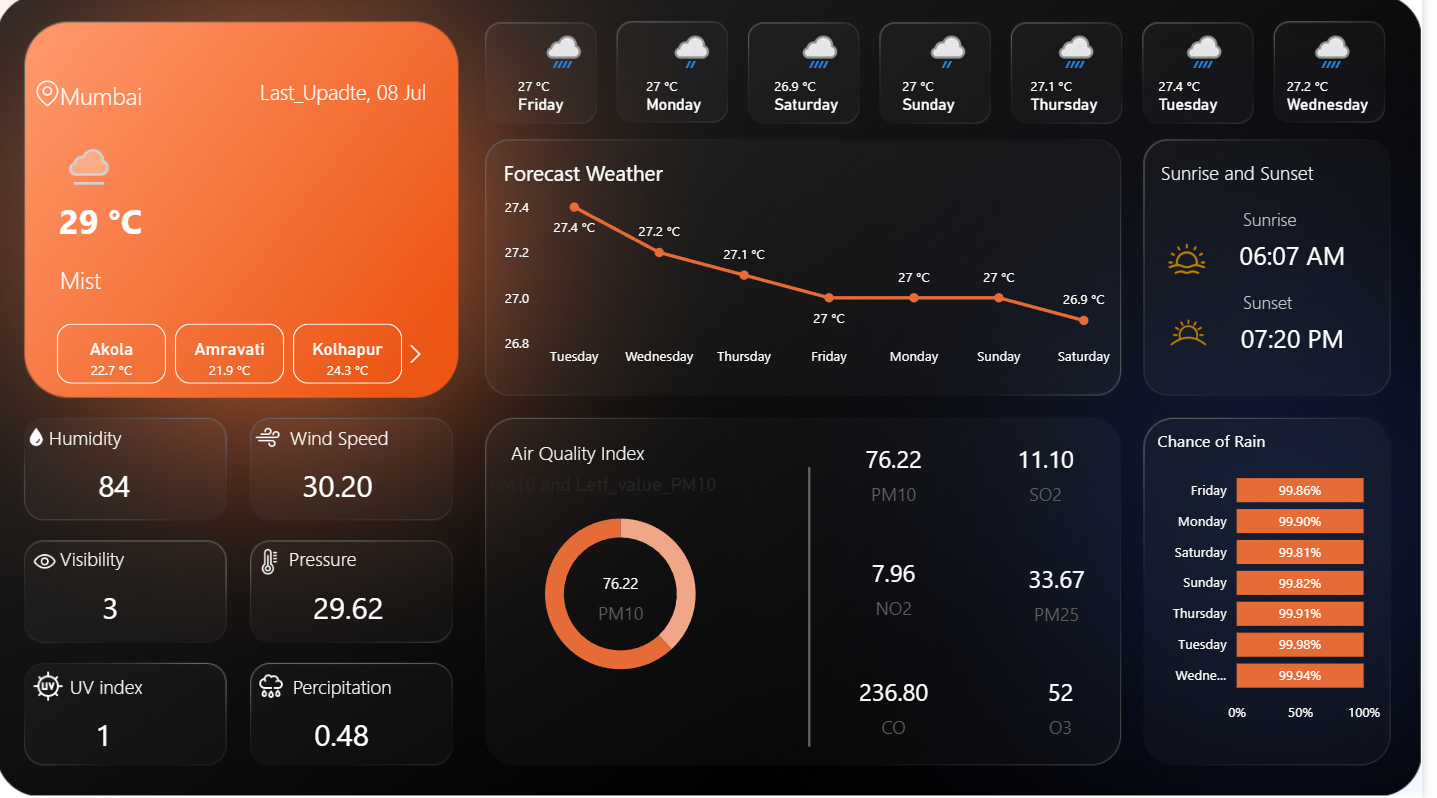

What the dashboard file says about the page in this screenshot:
{"tool":"powerbi","page":{"name":"Page 1","canvas":[1280,720],"ordinal":0},"visuals":[{"type":"advancedSlicerVisual","fields":{"Values":["Location.location.name"]},"box":[30,289.1,362.7,64.5],"z":0},{"type":"image","box":[3.3,382.8,65.6,27.2],"z":1000},{"type":"shape","box":[56.4,158.2,155.5,86.4],"z":2000},{"type":"shape","box":[56.4,231.8,287.3,43.6],"z":3000},{"type":"shape","box":[56.4,66.4,148.2,43.6],"z":4000},{"type":"shape","box":[236.4,66.4,164.5,38.2],"z":5000},{"type":"image","box":[30,70.9,32.7,33.6],"z":6000},{"type":"cardVisual","fields":{"Data":["Min(Current.current.condition.icon)"]},"box":[36.1,105.1,100.8,93.4],"z":7000},{"type":"shape","box":[46.7,382.1,130.5,27.6],"z":8000},{"type":"shape","box":[1118.3,187.1,129.9,27.3],"z":9000},{"type":"image","box":[225,380,37.1,32.9],"z":10000},{"type":"image","box":[24.4,491.4,38.2,32.9],"z":11000},{"type":"shape","box":[56.3,491.4,130.5,27.6],"z":12000},{"type":"image","box":[229.3,488.2,32.9,39.3],"z":13000},{"type":"shape","box":[262.2,491.4,130.5,27.6],"z":14000},{"type":"image","box":[27.6,600.7,38.2,38.2],"z":15000},{"type":"shape","box":[65.8,606,130.5,27.6],"z":16000},{"type":"image","box":[229.3,600.7,36.1,37.1],"z":17000},{"type":"shape","box":[265.3,606,130.5,27.6],"z":18000},{"type":"cardVisual","fields":{"Data":["Sum(Current.current.humidity)"]},"box":[69,395.9,74.3,75.4],"z":19000},{"type":"cardVisual","fields":{"Data":["Sum(Current.current.wind_kph)"]},"box":[211,395.9,191.2,75.4],"z":20000},{"type":"cardVisual","fields":{"Data":["Sum(Current.current.vis_km)"]},"box":[65.8,505.2,74.3,75.4],"z":21000},{"type":"cardVisual","fields":{"Data":["Sum(Current.current.pressure_in)"]},"box":[265.3,505.2,101.9,75.4],"z":22000},{"type":"cardVisual","fields":{"Data":["Sum(Current.current.uv)"]},"box":[59.4,619.8,74.3,75.4],"z":23000},{"type":"cardVisual","fields":{"Data":["Sum(Current.current.precip_mm)"]},"box":[265.3,619.8,89.2,75.4],"z":24000},{"type":"advancedSlicerVisual","fields":{"Values":["Forcast_Day.Day_N"]},"box":[450.7,18,807.1,105],"z":25000},{"type":"lineChart","title":"Forecast Weather","fields":{"Category":["Forcast_Day.Day_N"],"Y":["Sum(Forcast_Day.forecast.forecastday.day.avgtemp_c)"]},"box":[450.6,146.3,561.4,195.3],"z":26000},{"type":"shape","box":[1044.7,144.4,147.2,27.3],"z":27000},{"type":"shape","box":[1088.3,200.8,151.7,61.8],"z":28000},{"type":"shape","box":[1118.3,261.6,129.9,27.3],"z":29000},{"type":"shape","box":[1088.3,275.3,151.7,61.8],"z":30000},{"type":"image","box":[1001.1,275.3,138.1,52.7],"z":31000},{"type":"image","box":[1004.7,214.4,129.9,42.7],"z":32000},{"type":"hundredPercentStackedBarChart","title":"Chance of Rain","fields":{"Y":["Sum(Forcast_Hours.forecast.forecastday.hour.chance_of_rain)","_Measure.Last_Updated_Date_Curr"],"Category":["Forecast_Day.Day_N"]},"box":[1037.5,388.7,210.1,272.9],"z":33000},{"type":"shape","box":[461.3,395.6,147.2,27.5],"z":34000},{"type":"shape","box":[263.1,382.8,147.2,27.5],"z":36000},{"type":"cardVisual","fields":{"Data":["Sum(Current.current.air_quality.pm10)"]},"box":[756.4,383.3,98.1,81.6],"z":36001},{"type":"cardVisual","fields":{"Data":["Sum(Current.current.air_quality.no2)"]},"box":[756.4,486,98.1,81.6],"z":36003},{"type":"cardVisual","fields":{"Data":["Sum(Current.current.air_quality.pm2_5)"]},"box":[903.2,491.5,98.1,81.6],"z":36004},{"type":"cardVisual","fields":{"Data":["Sum(Current.current.air_quality.co)"]},"box":[756.4,592.3,98.1,81.6],"z":36005},{"type":"cardVisual","fields":{"Data":["Sum(Current.current.air_quality.o3)"]},"box":[906.8,592.3,98.1,81.6],"z":36006},{"type":"cardVisual","fields":{"Data":["Sum(Current.current.air_quality.so2)"]},"box":[893.1,383.3,98.1,81.6],"z":36007},{"type":"shape","box":[654.7,422.7,151.3,251.2],"z":36008},{"type":"cardVisual","fields":{"Data":["Sum(Current.current.air_quality.pm10)"]},"box":[519.9,500.6,82.5,64.2],"z":36009},{"type":"donutChart","fields":{"Y":["Sum(Current.current.air_quality.pm10)","_Measure.Letf_value_PM10"]},"box":[438.3,428.2,244.8,198.1],"z":36010}]}

Visuals, with their boxes in screenshot pixels (x1, y1, x2, y2), scaled from the page's 1280x720 canvas onto the 1437x798 screenshot:
advancedSlicerVisual - Location.location.name: box(34, 320, 441, 392)
image: box(4, 424, 77, 454)
shape: box(63, 175, 238, 271)
shape: box(63, 257, 386, 305)
shape: box(63, 74, 230, 122)
shape: box(265, 74, 450, 116)
image: box(34, 79, 70, 116)
cardVisual - Min(Current.current.condition.icon): box(41, 116, 154, 220)
shape: box(52, 423, 199, 454)
shape: box(1255, 207, 1401, 238)
image: box(253, 421, 294, 458)
image: box(27, 545, 70, 581)
shape: box(63, 545, 210, 575)
image: box(257, 541, 294, 585)
shape: box(294, 545, 441, 575)
image: box(31, 666, 74, 708)
shape: box(74, 672, 220, 702)
image: box(257, 666, 298, 707)
shape: box(298, 672, 444, 702)
cardVisual - Sum(Current.current.humidity): box(77, 439, 161, 522)
cardVisual - Sum(Current.current.wind_kph): box(237, 439, 452, 522)
cardVisual - Sum(Current.current.vis_km): box(74, 560, 157, 643)
cardVisual - Sum(Current.current.pressure_in): box(298, 560, 412, 643)
cardVisual - Sum(Current.current.uv): box(67, 687, 150, 771)
cardVisual - Sum(Current.current.precip_mm): box(298, 687, 398, 771)
advancedSlicerVisual - Forcast_Day.Day_N: box(506, 20, 1412, 136)
"Forecast Weather" lineChart: box(506, 162, 1136, 379)
shape: box(1173, 160, 1338, 190)
shape: box(1222, 223, 1392, 291)
shape: box(1255, 290, 1401, 320)
shape: box(1222, 305, 1392, 374)
image: box(1124, 305, 1279, 364)
image: box(1128, 238, 1274, 285)
"Chance of Rain" hundredPercentStackedBarChart: box(1165, 431, 1401, 733)
shape: box(518, 438, 683, 469)
shape: box(295, 424, 461, 455)
cardVisual - Sum(Current.current.air_quality.pm10): box(849, 425, 959, 515)
cardVisual - Sum(Current.current.air_quality.no2): box(849, 539, 959, 629)
cardVisual - Sum(Current.current.air_quality.pm2_5): box(1014, 545, 1124, 635)
cardVisual - Sum(Current.current.air_quality.co): box(849, 656, 959, 747)
cardVisual - Sum(Current.current.air_quality.o3): box(1018, 656, 1128, 747)
cardVisual - Sum(Current.current.air_quality.so2): box(1003, 425, 1113, 515)
shape: box(735, 468, 905, 747)
cardVisual - Sum(Current.current.air_quality.pm10): box(584, 555, 676, 626)
donutChart - Sum(Current.current.air_quality.pm10) x _Measure.Letf_value_PM10: box(492, 475, 767, 694)
